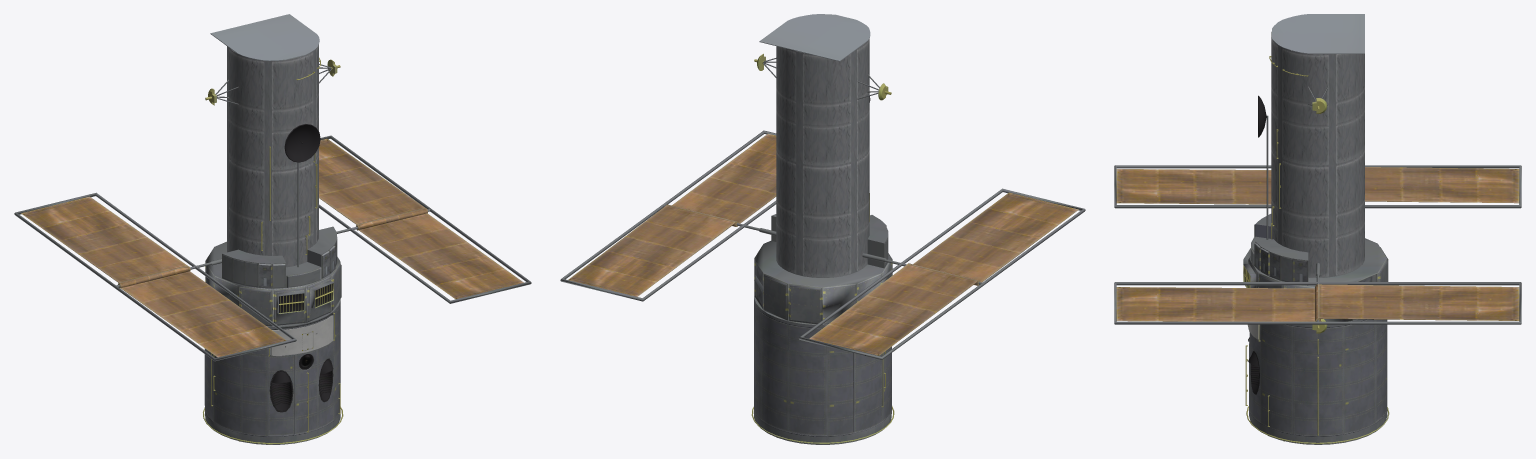
The model's file is hubble_telescope.glb.
3 renders of one model, left to right at view 1: azimuth 30°, elevation 25°; view 2: azimuth 150°, elevation 25°; view 3: azimuth 270°, elevation 25°, orthographic.
Visible parts, largest first — view 1: solar_arrays, light_shield, aft_shroud, equipment, aperture_door; view 2: solar_arrays, light_shield, aft_shroud, equipment, aperture_door; view 3: solar_arrays, light_shield, aft_shroud, equipment, aperture_door.
Part boxes in pixels (bbox=[...]): solar_arrays: bbox=[14, 135, 531, 361]; light_shield: bbox=[209, 45, 334, 267]; aft_shroud: bbox=[203, 303, 343, 444]; equipment: bbox=[205, 226, 341, 354]; aperture_door: bbox=[205, 14, 340, 102]; solar_arrays: bbox=[560, 130, 1085, 359]; light_shield: bbox=[758, 39, 885, 252]; aft_shroud: bbox=[751, 304, 894, 444]; equipment: bbox=[754, 214, 892, 354]; aperture_door: bbox=[754, 14, 891, 98]; solar_arrays: bbox=[1114, 165, 1521, 324]; light_shield: bbox=[1258, 37, 1364, 252]; aft_shroud: bbox=[1245, 319, 1389, 444]; equipment: bbox=[1243, 214, 1388, 353]; aperture_door: bbox=[1269, 14, 1364, 112].
Size of the model in its own units: 0.6977 by 0.8 by 0.7632.
Materials: 14 (14 with a texture image).
